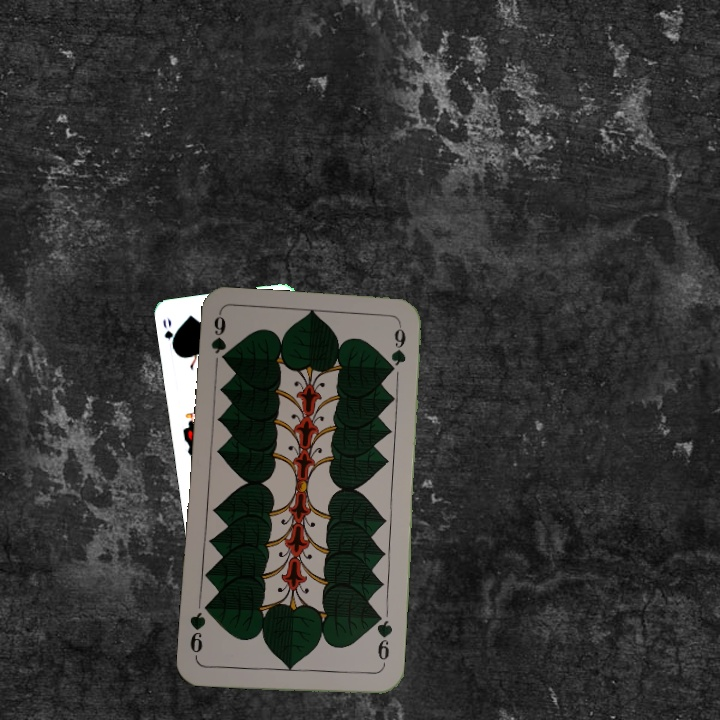G9: (372, 611, 395, 671), (207, 311, 229, 365)
GO: (159, 314, 180, 354)
